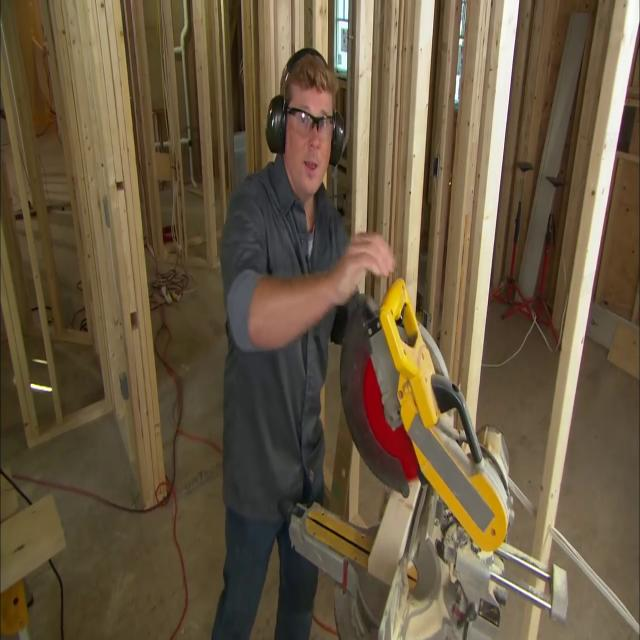earmuff: (264, 92, 288, 156), (328, 108, 346, 170)
glasses: (283, 100, 337, 140)
